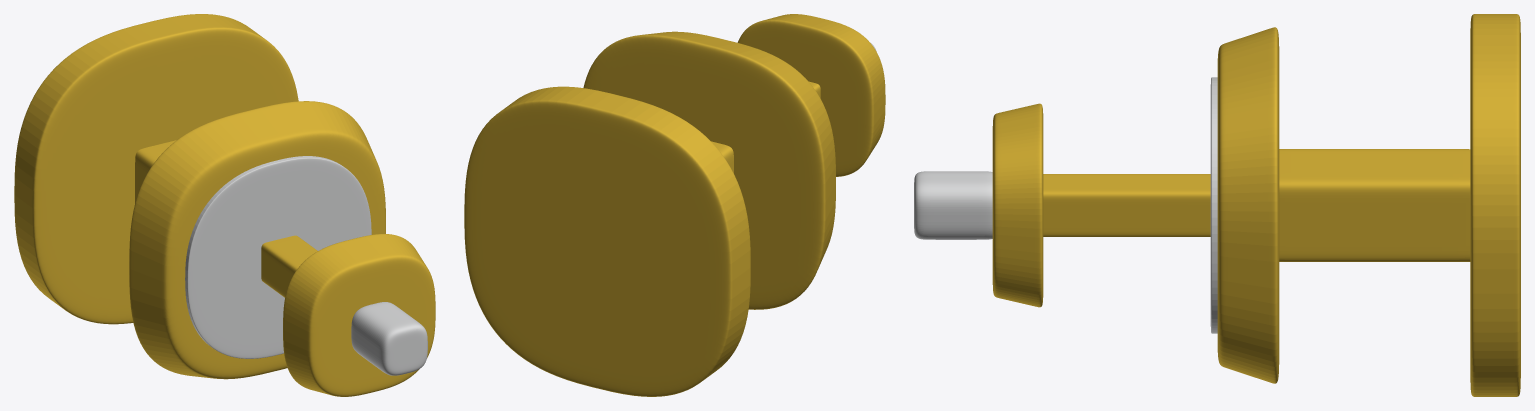
The model's file is garden_fountain_sq.glb.
3 renders of one model, left to right at view 1: azimuth 30°, elevation 25°; view 2: azimuth 150°, elevation 25°; view 3: azimuth 270°, elevation 25°, orthographic. The views are drawn at different scales.
Visible parts, largest first — view 1: superquadric_0, superquadric_2, superquadric_3, superquadric_5, superquadric_6, superquadric_4, superquadric_1; view 2: superquadric_0, superquadric_2, superquadric_5; view 3: superquadric_1, superquadric_2, superquadric_0, superquadric_4, superquadric_5, superquadric_6, superquadric_3.
Boxes of the visible parts, x1,y1,x2,y2 form: superquadric_0: (14,14,298,324); superquadric_2: (129,101,385,379); superquadric_3: (185,156,371,358); superquadric_5: (283,234,435,396); superquadric_6: (351,302,427,375); superquadric_4: (261,235,317,297); superquadric_1: (135,140,176,203); superquadric_0: (464,86,750,396); superquadric_2: (583,31,835,309); superquadric_5: (737,14,885,176); superquadric_1: (1279,149,1470,261); superquadric_2: (1217,27,1279,383); superquadric_0: (1470,14,1520,396); superquadric_4: (1043,174,1210,236); superquadric_5: (992,103,1043,307); superquadric_6: (914,171,992,239); superquadric_3: (1210,77,1217,333).
Size of the model in its own units: 0.5925 by 0.5925 by 1.
